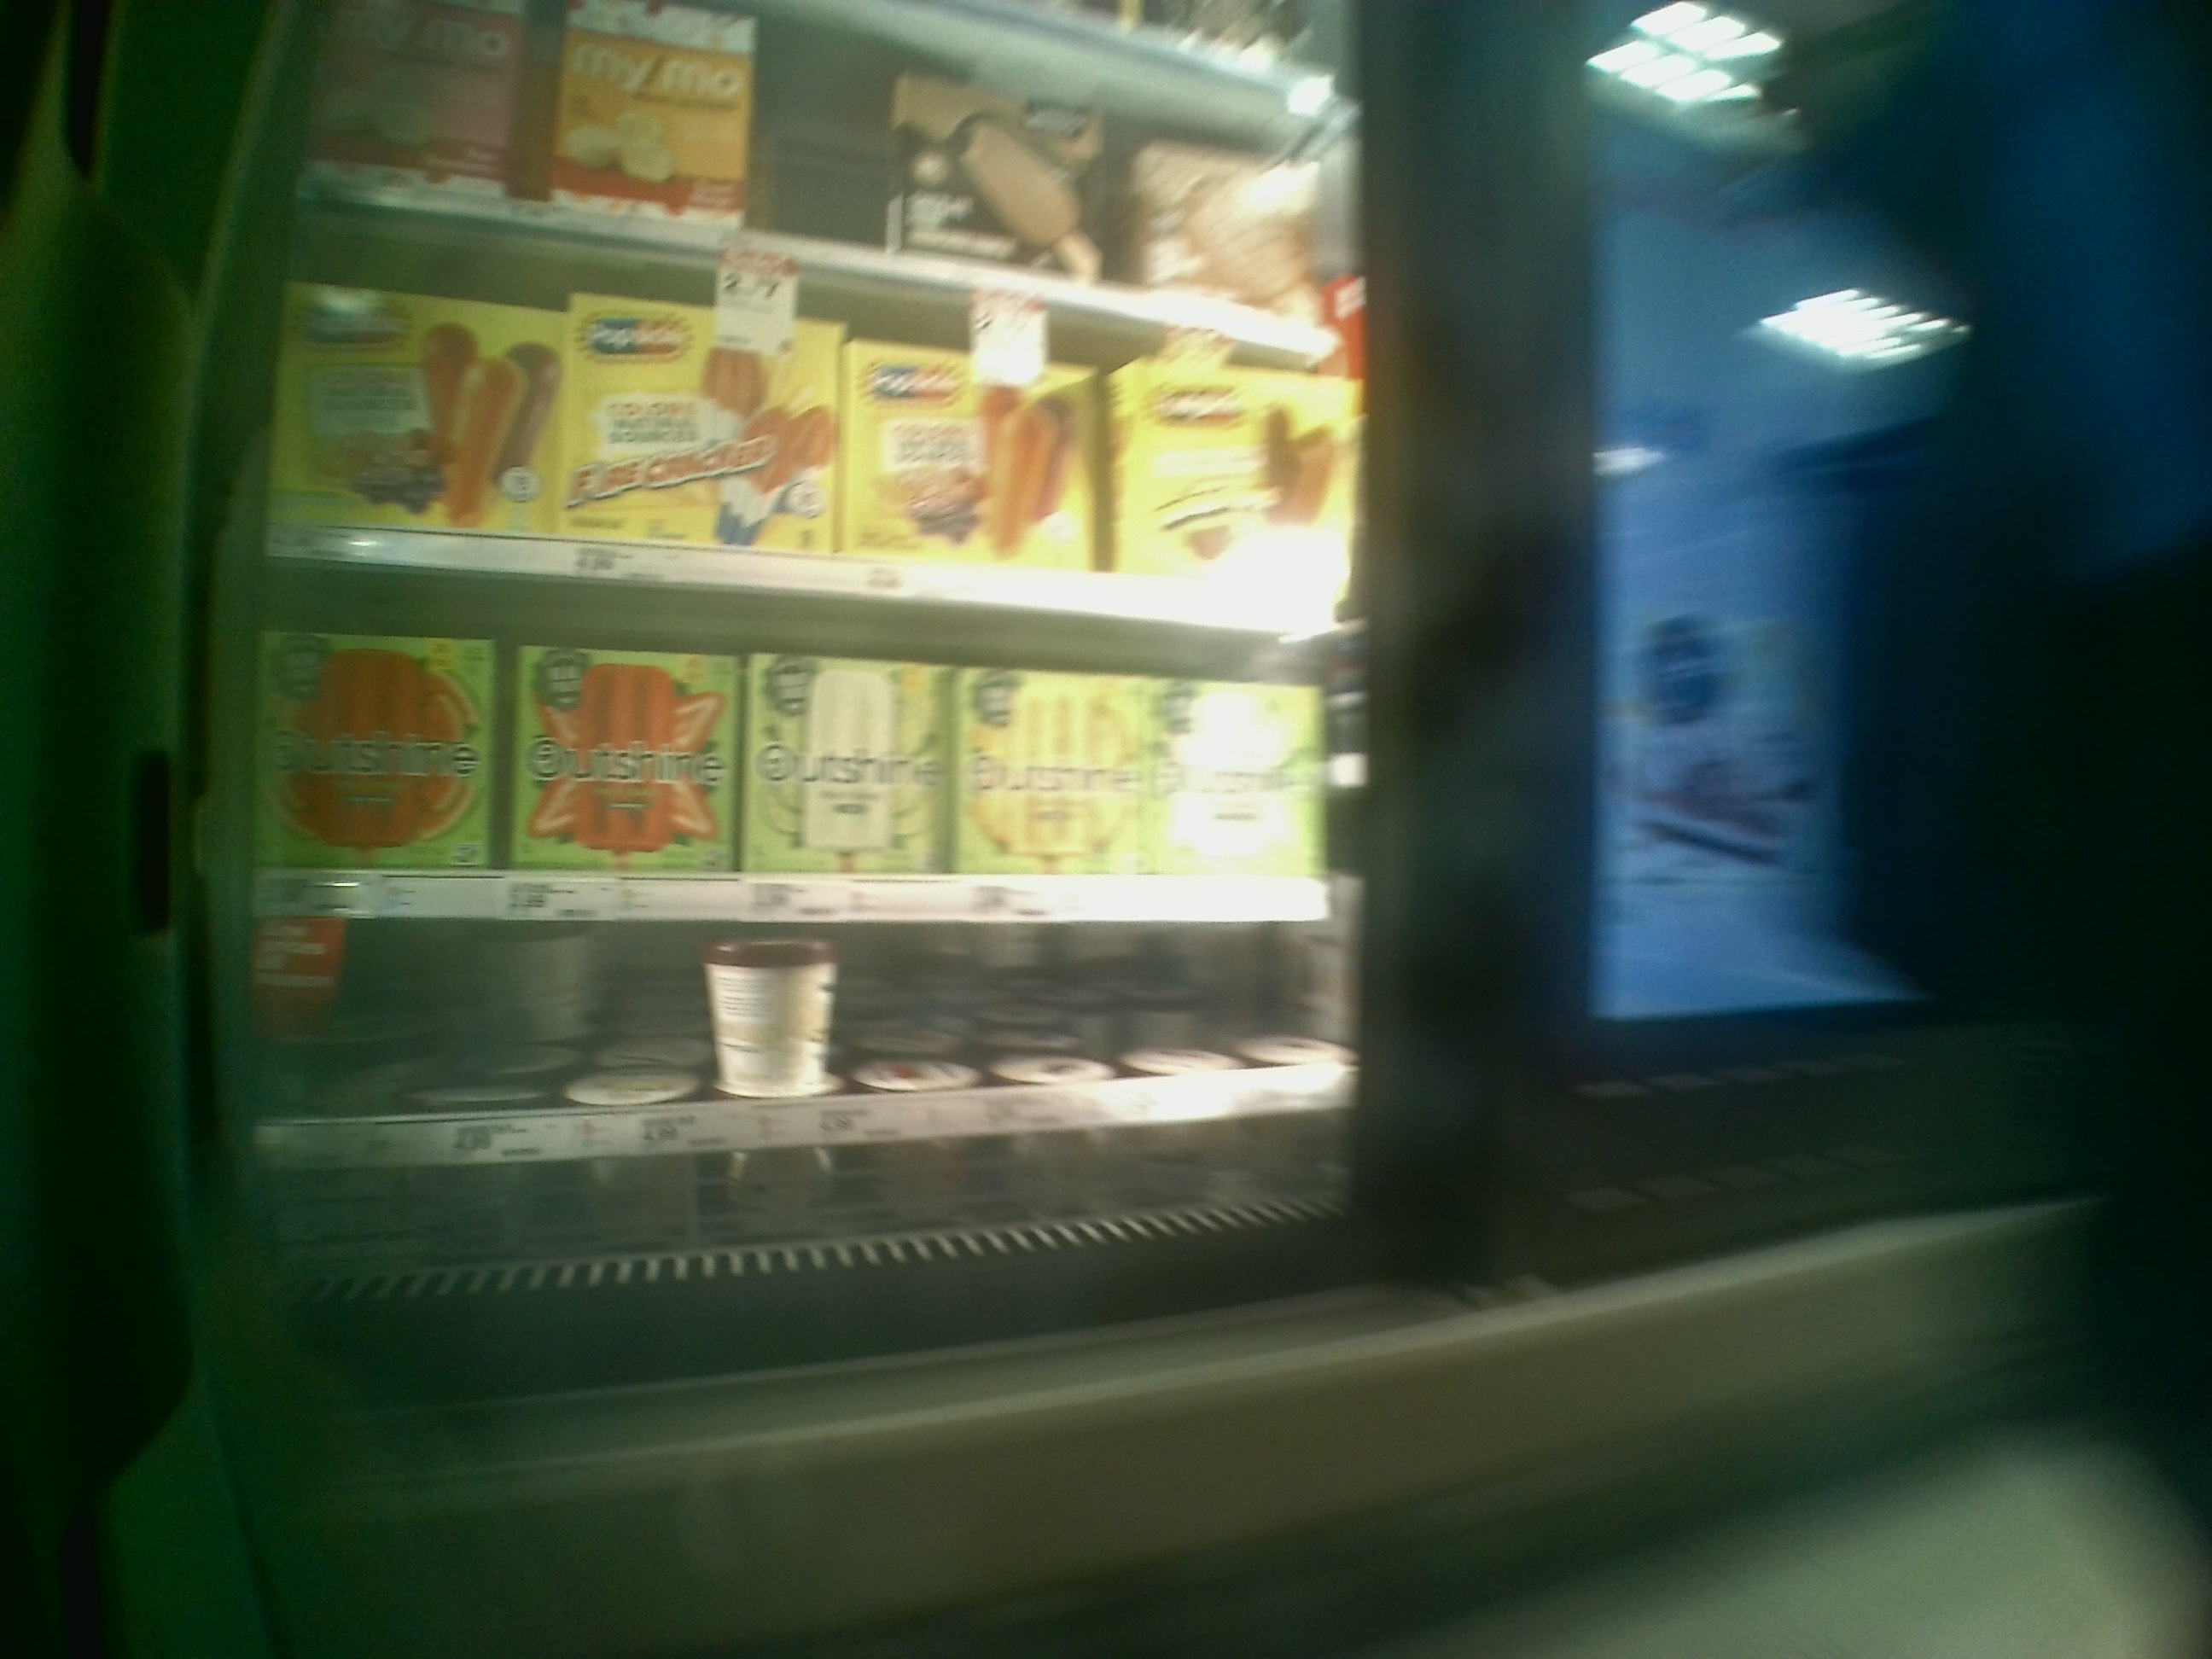ice-cream-shelf: (273, 568, 1332, 922), (275, 918, 1353, 1171)
